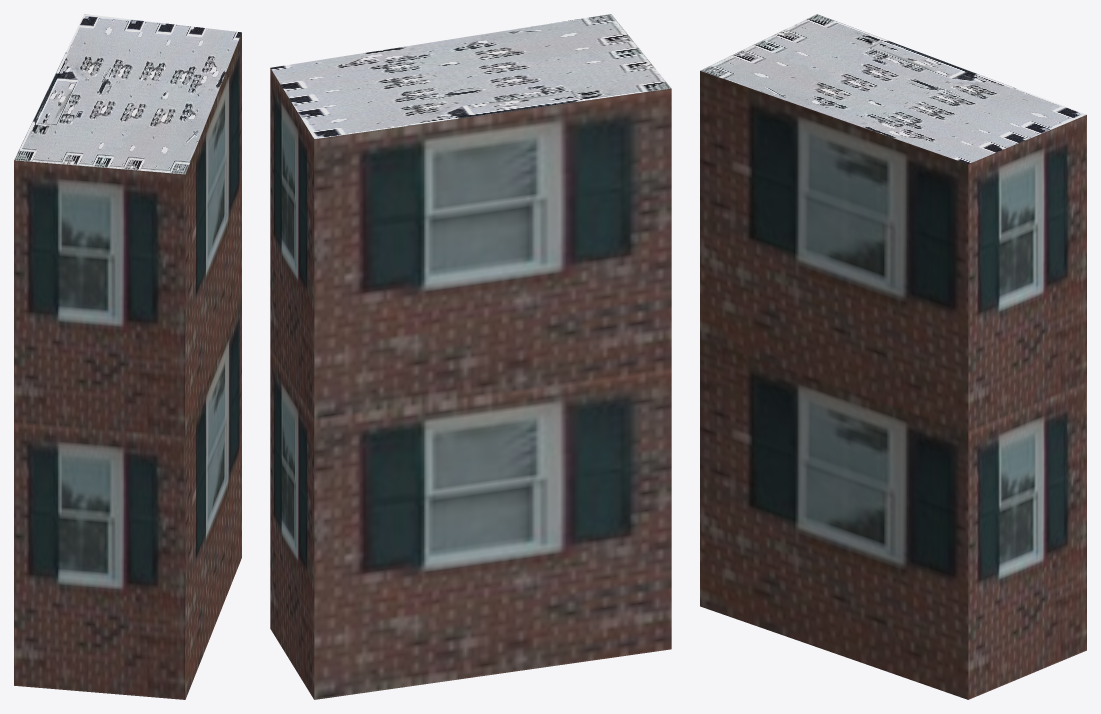
File: ResTex__590.fbx
The picture shows the model from 3 angles, left to right: view 1: azimuth 30°, elevation 25°; view 2: azimuth 150°, elevation 25°; view 3: azimuth 270°, elevation 25°; orthographic projection. The views are drawn at different scales.
Visible parts, largest first — view 1: CityEngineMaterial_14_m, CityEngineMaterial_8_m; view 2: CityEngineMaterial_14_m, CityEngineMaterial_8_m; view 3: CityEngineMaterial_14_m, CityEngineMaterial_8_m.
Boxes of the visible parts, <box> form: CityEngineMaterial_14_m: <box>14,33,241,699</box>; CityEngineMaterial_8_m: <box>14,14,241,174</box>; CityEngineMaterial_14_m: <box>270,68,671,699</box>; CityEngineMaterial_8_m: <box>270,14,671,138</box>; CityEngineMaterial_14_m: <box>700,71,1086,699</box>; CityEngineMaterial_8_m: <box>700,14,1086,164</box>.
Bounding box in the file's own units: 3.61 × 6 × 3.93.
2 materials, 2 textured.
